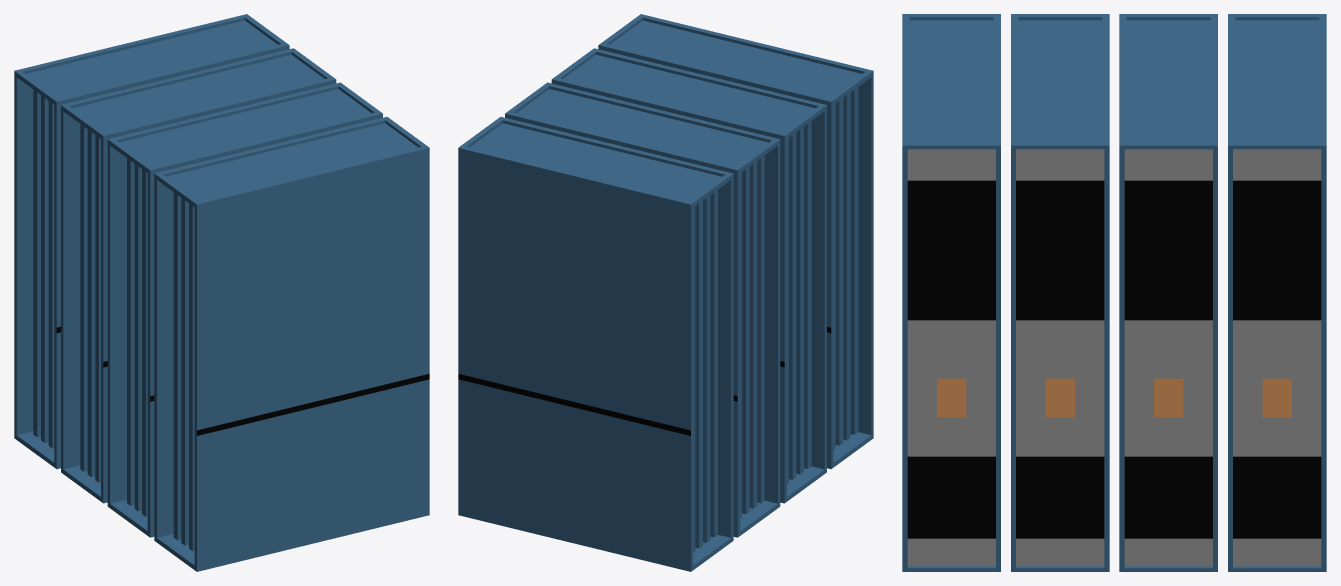
File: kitaplar.fbx
3 views of the same model, side by side, from view 1: azimuth 30°, elevation 25°; view 2: azimuth 150°, elevation 25°; view 3: azimuth 270°, elevation 25° (orthographic). The views are drawn at different scales.
Parts seen in each view (by area): view 1: Cube; view 2: Cube; view 3: Cube.
Boxes of the visible parts, x1,y1,x2,y2 form: Cube: (14, 14, 429, 571); Cube: (458, 14, 873, 571); Cube: (902, 14, 1326, 571).
Bounding box in the file's own units: 318 × 479 × 432.
